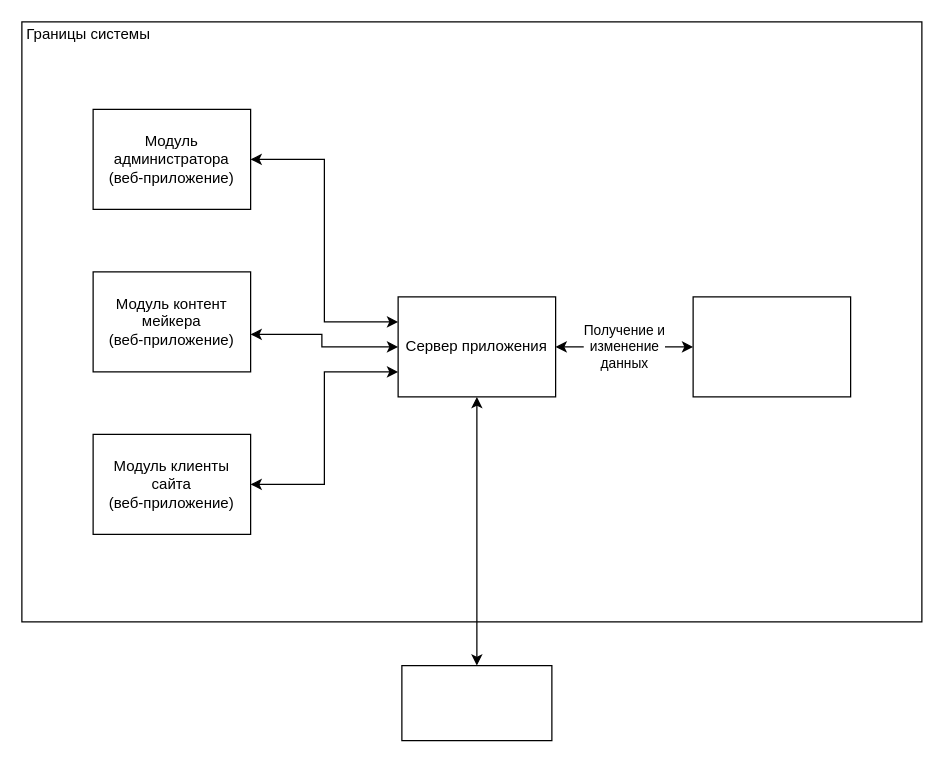
Image size: 944x763. Some labels were removed from this diagram. The shapes that lost their labels are listed below. From the top down, each one's centre as x and y in pixels, then its label:
At [771,346]: "Модуль хранения данных (SQL - СУБД)".
At [476,702]: "Доступ к Сайту по протоколу http".
